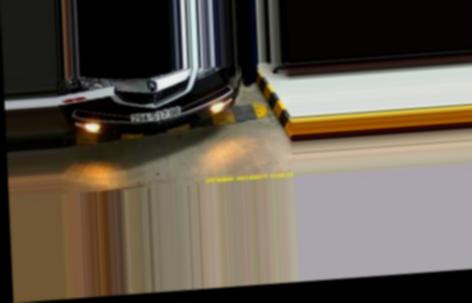License_Plate: (131, 106, 180, 125)
